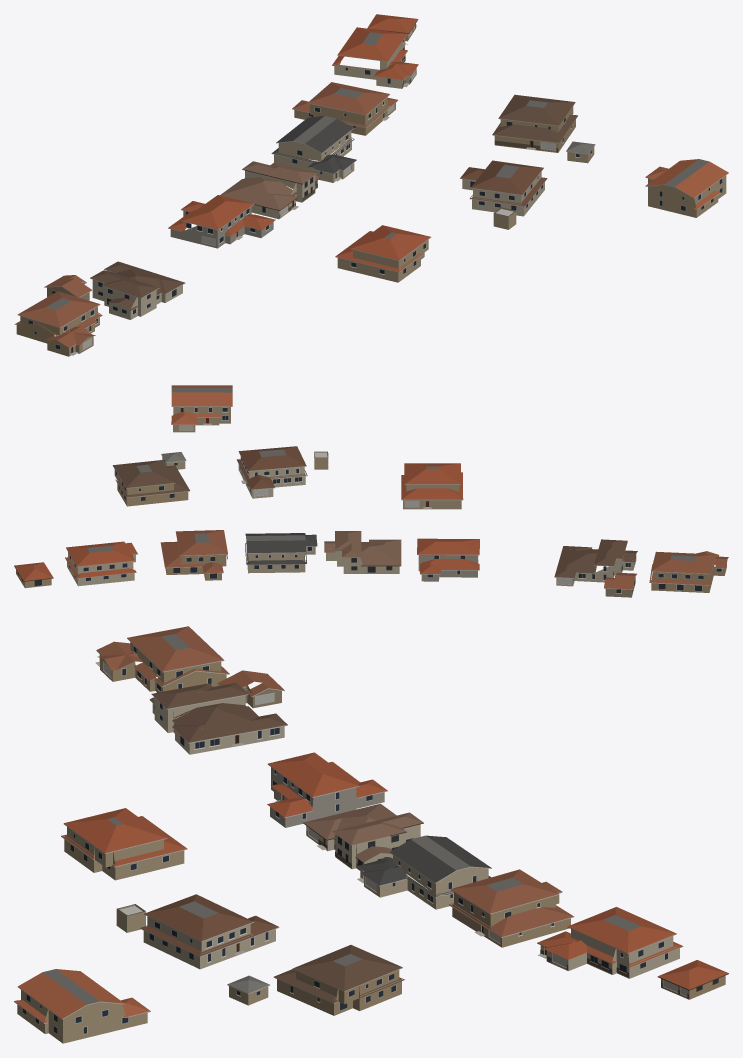
3 views of the same model, one above another, from view 1: azimuth 30°, elevation 25°; view 2: azimuth 150°, elevation 25°; view 3: azimuth 270°, elevation 25° (orthographic). The views are drawn at different scales.
Parts seen in each view (by area): view 1: buildings_r0_c5_lod0; view 2: buildings_r0_c5_lod0; view 3: buildings_r0_c5_lod0.
Boxes of the visible parts, x1=… form: buildings_r0_c5_lod0: x1=14, y1=14, x2=728, y2=356; buildings_r0_c5_lod0: x1=14, y1=385, x2=728, y2=597; buildings_r0_c5_lod0: x1=14, y1=626, x2=728, y2=1043.
Size of the model in its own units: 223 by 14.39 by 162.
